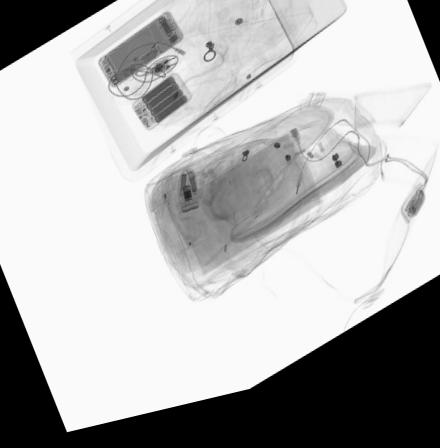Powerbank: (129, 79, 193, 141)
